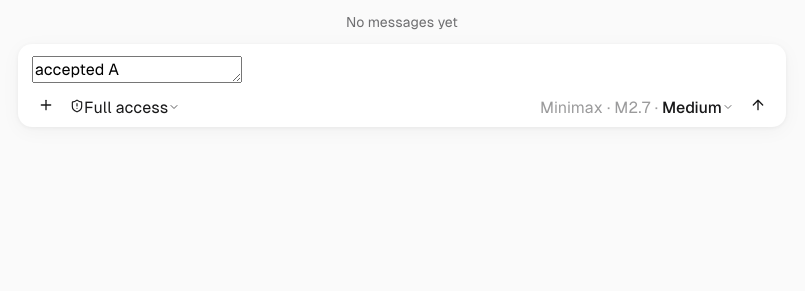
ChatView › does not offer stale retry after an accepted failure followed by pre-start EOF
The width and height of the screenshot is (805, 291).
Expected: the button "Minimax · M2.7 · Medium" is shown, [534, 96, 740, 119]
Click the button named "send" at (758, 108), box [744, 96, 772, 119]
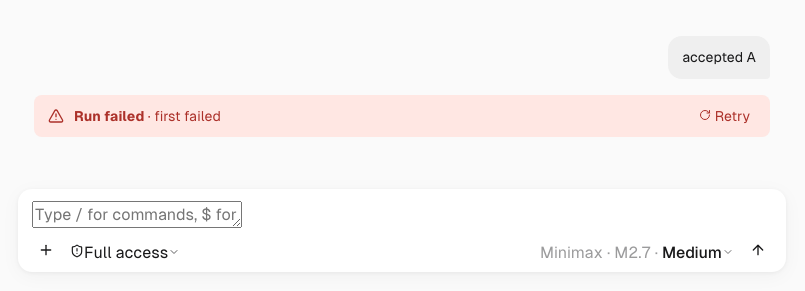
Result: the text "Run failed · first failed" is shown at [74, 108, 221, 124]
Type "draft B" into the text box named "message" at (137, 214), box [32, 201, 242, 228]
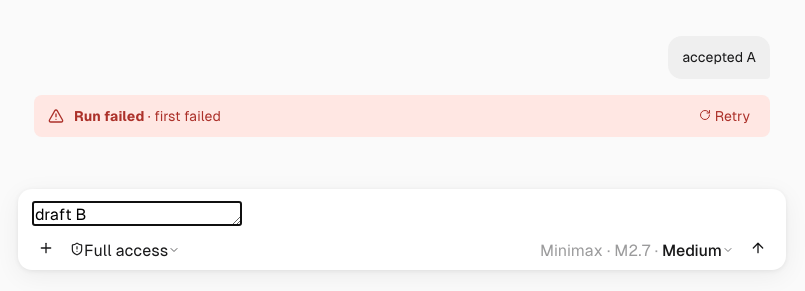
Click the button named "send" at (758, 250), box [744, 239, 772, 262]
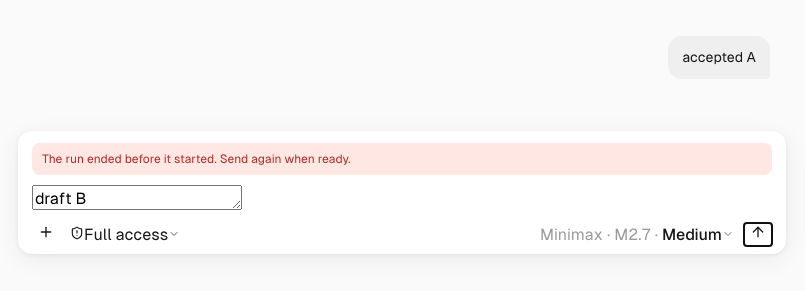
Result: the text "The run ended before it started. Send again when ready." is shown at [32, 143, 772, 175]
Result: the button "Retry" is gone
